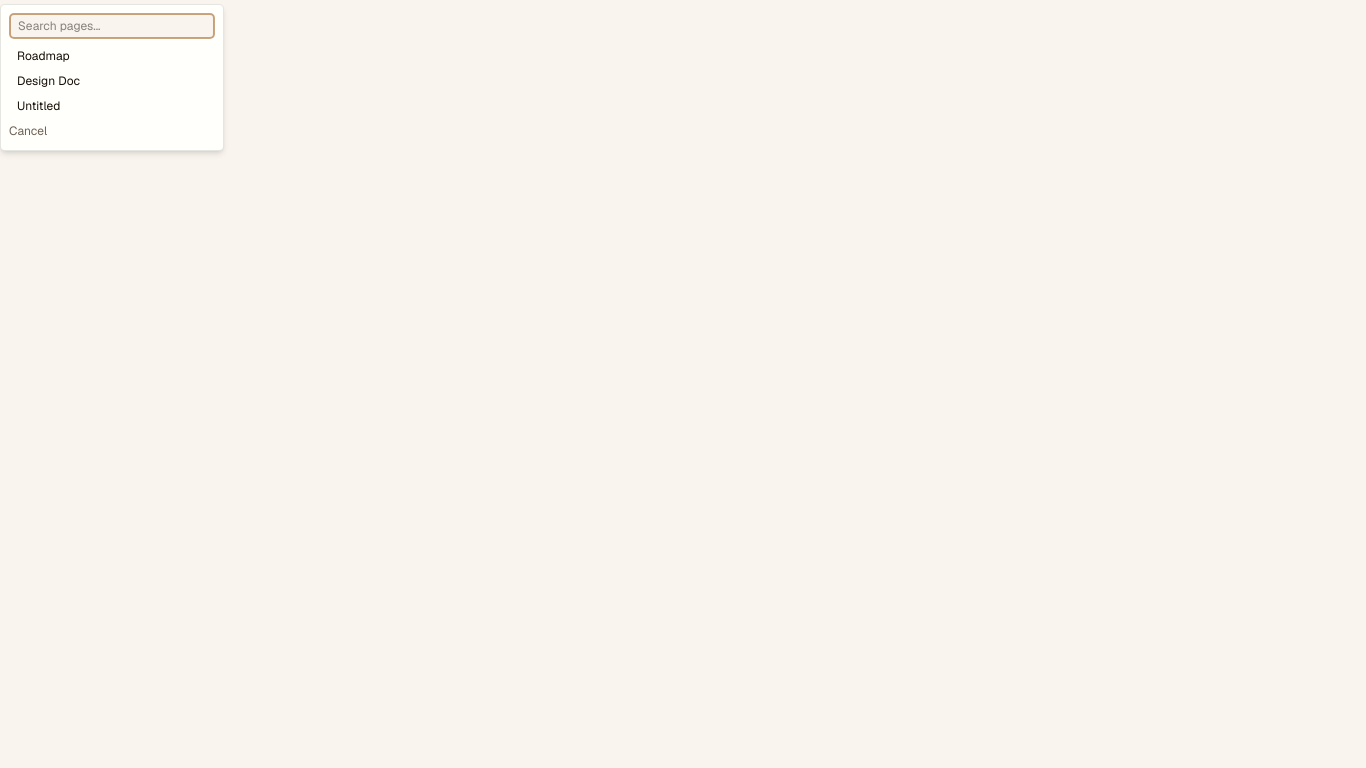
Test: TodoAttachDocumentPicker › shows a "no matching pages" message when the filter matches nothing
In the field labelled "Search pages": (112, 26) [9,13,215,39], type "nonexistent"
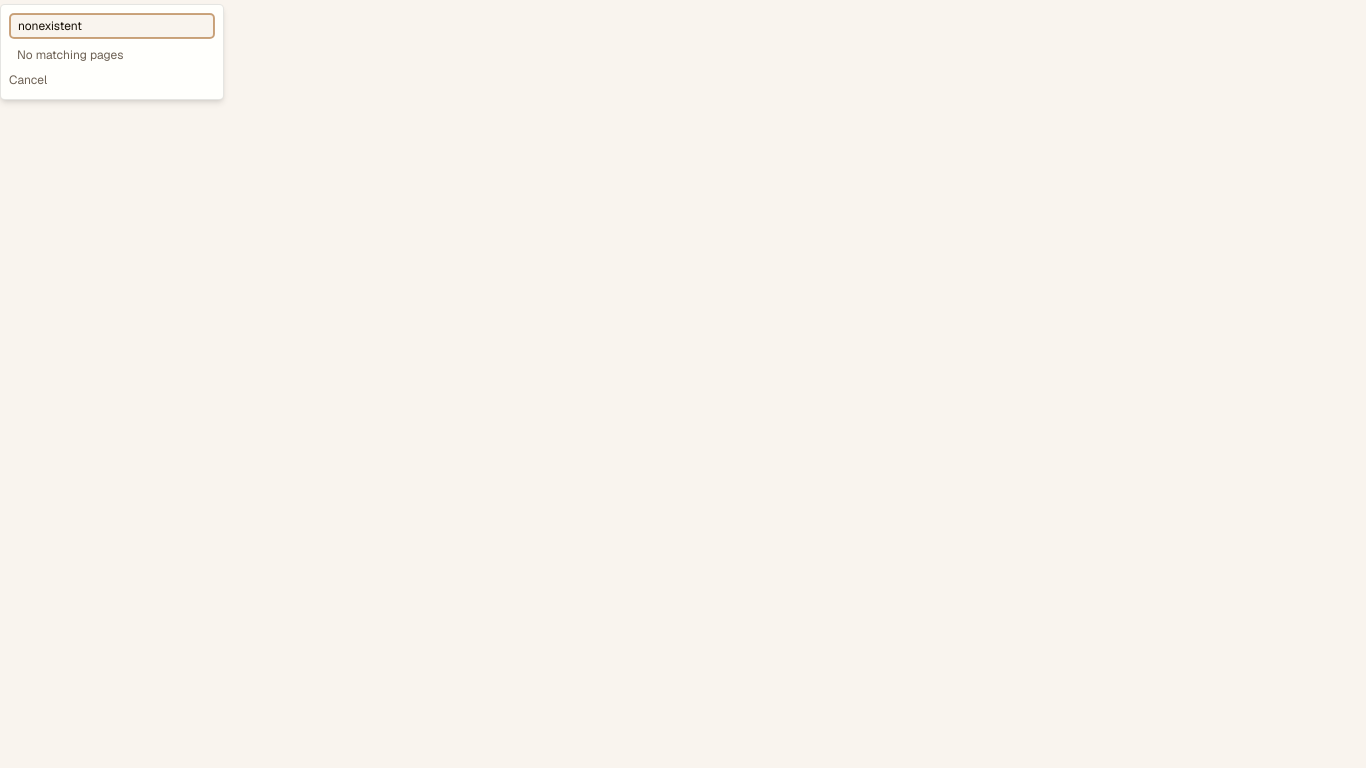
Expected: the list item "No matching pages" is shown, [17,47,124,63]
